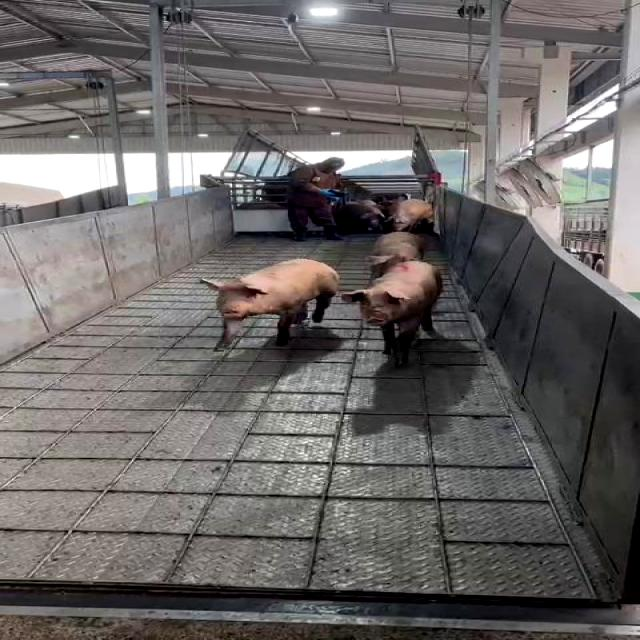pig: (202, 259, 339, 349), (341, 261, 442, 363), (367, 231, 426, 279)
